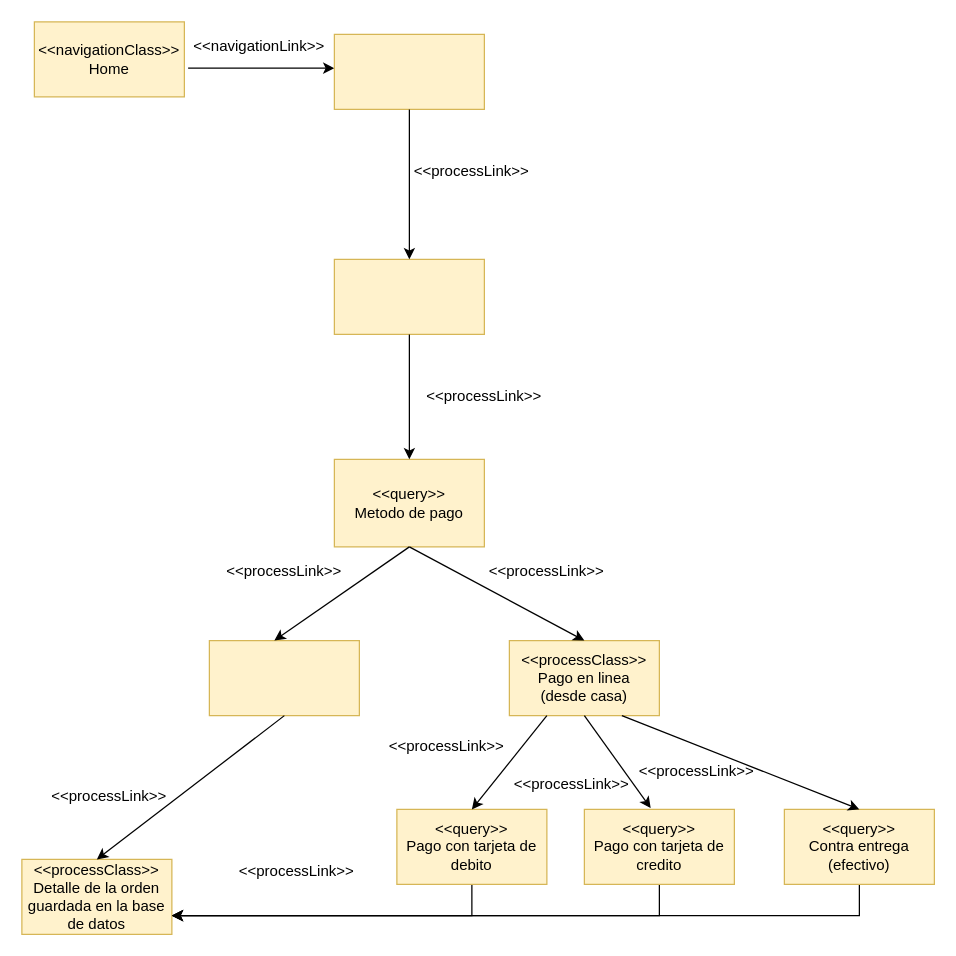
Image size: 956x956. Some labels were removed from this diagram. Each missing label, with the box of its shape:
<<menu>> Selección de platillos: (333, 33, 484, 109)
<<processClass>> Pago en el restaurante: (208, 639, 359, 716)
<<query>> Listado de productos seleccionados: (333, 258, 484, 334)
